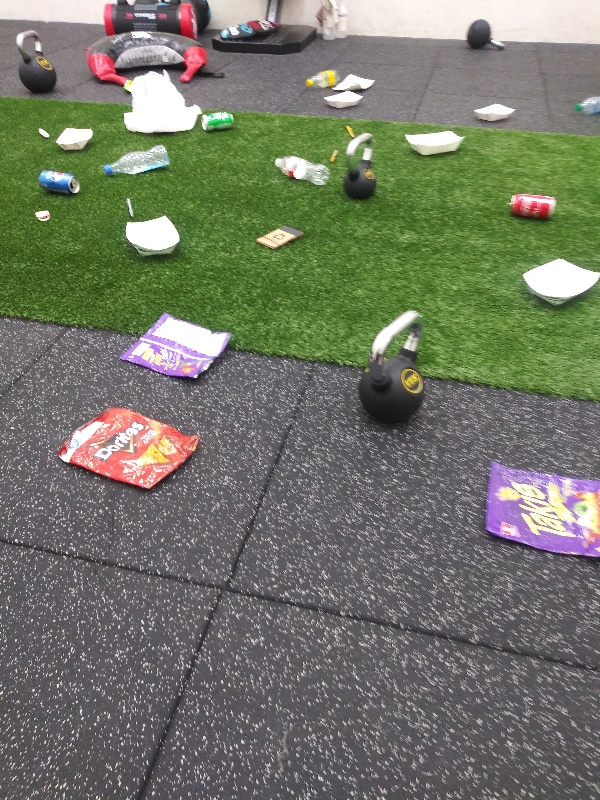bag: (54, 404, 206, 491), (480, 458, 600, 565), (114, 311, 234, 382), (329, 73, 377, 92)
bottle: (100, 140, 176, 179), (269, 151, 332, 189), (300, 68, 343, 90), (572, 93, 600, 121)
can: (504, 189, 564, 220), (37, 169, 84, 195), (198, 110, 238, 135)
plate: (518, 256, 600, 307), (119, 212, 183, 260), (404, 127, 466, 159), (52, 124, 97, 153), (471, 100, 518, 125), (323, 87, 372, 107)
